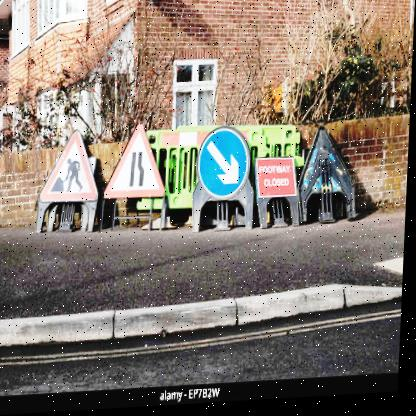Keep right: (193, 127, 252, 205)
